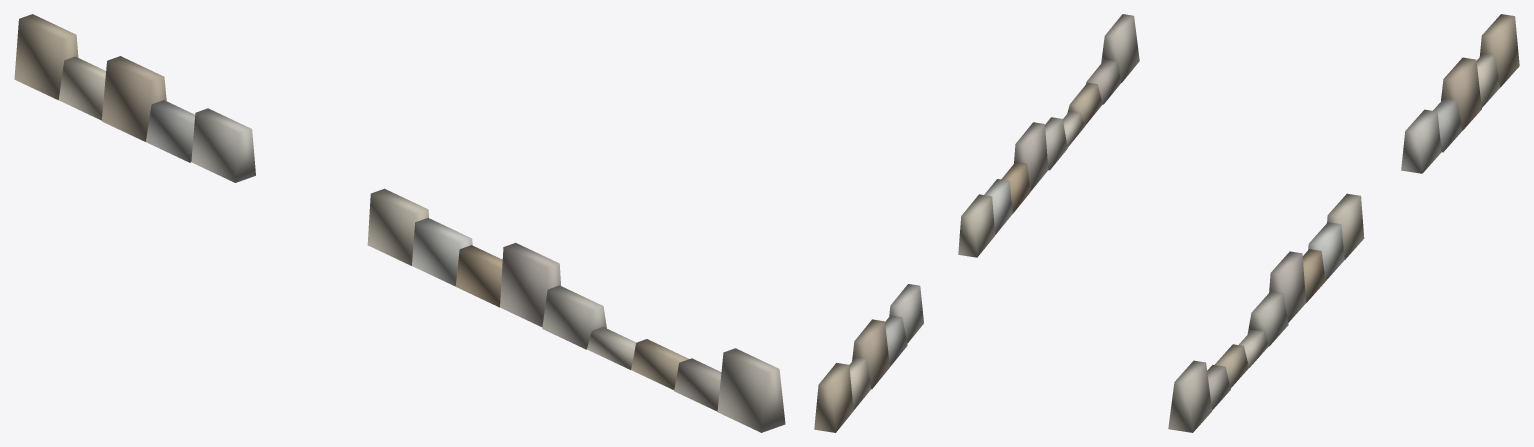
Rendered from farm_9_26_collision.glb.
3 views of the same model, side by side, from view 1: azimuth 30°, elevation 25°; view 2: azimuth 150°, elevation 25°; view 3: azimuth 330°, elevation 25° (orthographic). The views are drawn at different scales.
Visible parts, largest first — view 1: geometry_0; view 2: geometry_0; view 3: geometry_0.
Part boxes in pixels (bbox=[...]): geometry_0: bbox=[14, 14, 785, 432]; geometry_0: bbox=[814, 14, 1139, 432]; geometry_0: bbox=[1168, 14, 1519, 432].
Size of the model in its own units: 5.39 by 1.99 by 26.26.
